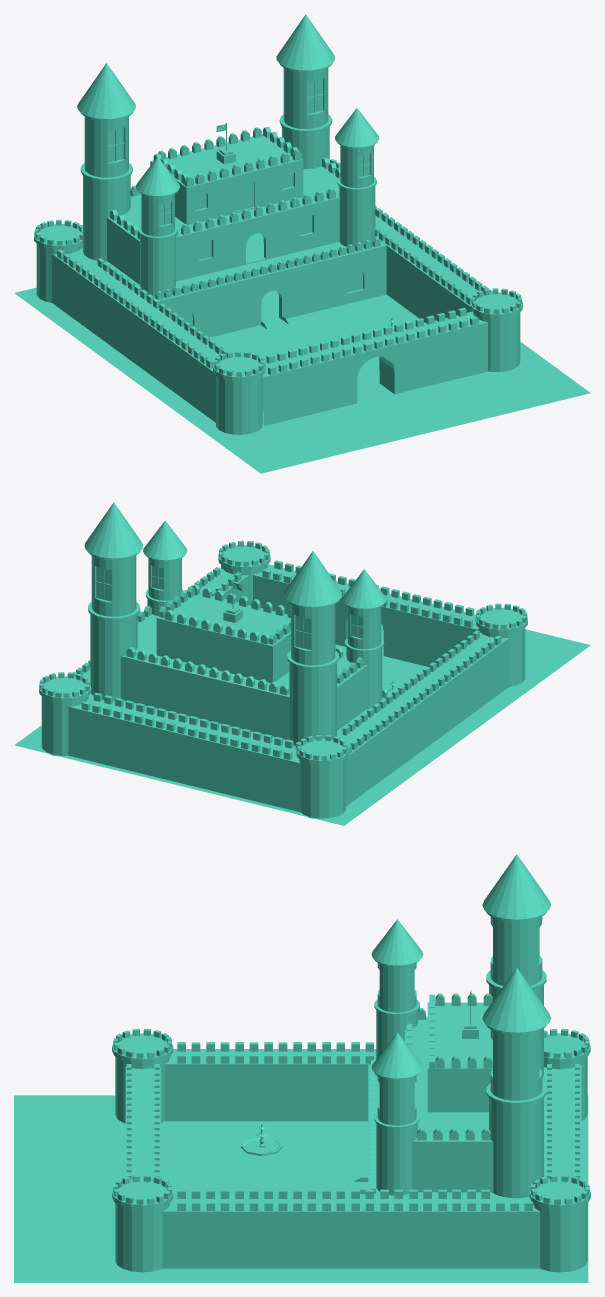
The model's file is CastleOB_3D.obj.
The picture shows the model from 3 angles, top to bottom: view 1: azimuth 30°, elevation 25°; view 2: azimuth 150°, elevation 25°; view 3: azimuth 270°, elevation 25°; orthographic projection. The views are drawn at different scales.
Parts seen in each view (by area): view 1: Castle_Exterior, Castle_Interior, Ground_and_Fountain, Towers_Doors_and_Windows; view 2: Castle_Exterior, Towers_Doors_and_Windows, Castle_Interior, Ground_and_Fountain; view 3: Castle_Exterior, Ground_and_Fountain, Towers_Doors_and_Windows, Castle_Interior.
Boxes of the visible parts, left/top/right/bottom form: Castle_Exterior: left=34, top=159, right=522, bottom=434; Castle_Interior: left=81, top=123, right=386, bottom=337; Ground_and_Fountain: left=14, top=287, right=590, bottom=473; Towers_Doors_and_Windows: left=77, top=14, right=387, bottom=387; Castle_Exterior: left=39, top=540, right=527, bottom=818; Towers_Doors_and_Windows: left=84, top=502, right=386, bottom=745; Castle_Interior: left=89, top=581, right=387, bottom=746; Ground_and_Fountain: left=14, top=623, right=590, bottom=825; Castle_Exterior: left=112, top=1028, right=590, bottom=1272; Ground_and_Fountain: left=14, top=1095, right=588, bottom=1282; Towers_Doors_and_Windows: left=354, top=854, right=550, bottom=1198; Castle_Interior: left=368, top=990, right=544, bottom=1196.
Size of the model in its own units: 114 by 79.24 by 149.
